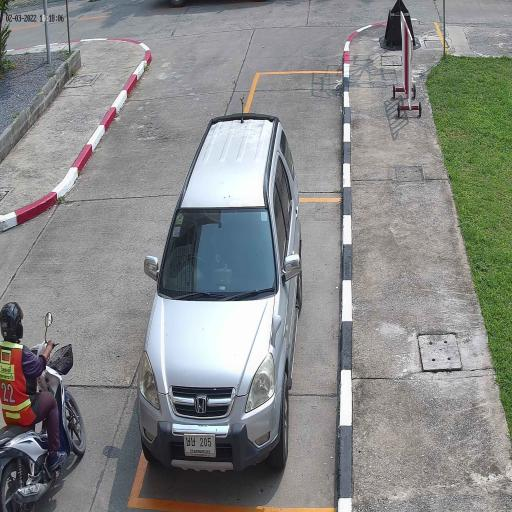car: (136, 110, 304, 479)
motorcycle: (0, 389, 89, 512)
